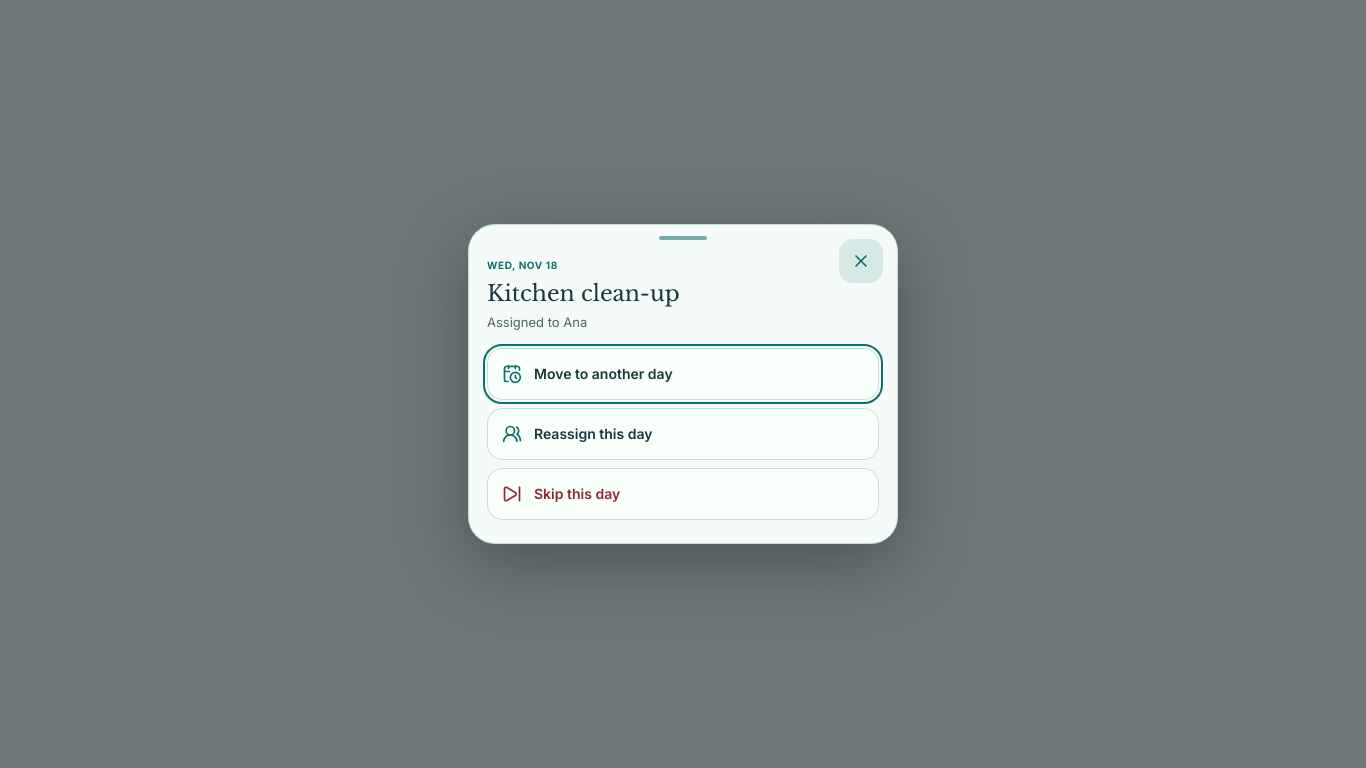
Test: OccurrenceActionSheet › treats a one-person chore's member list as a single choice
Later steps or results of the test are not shown.
Click the button "Reassign this day": (593, 434) [487,408,879,460]
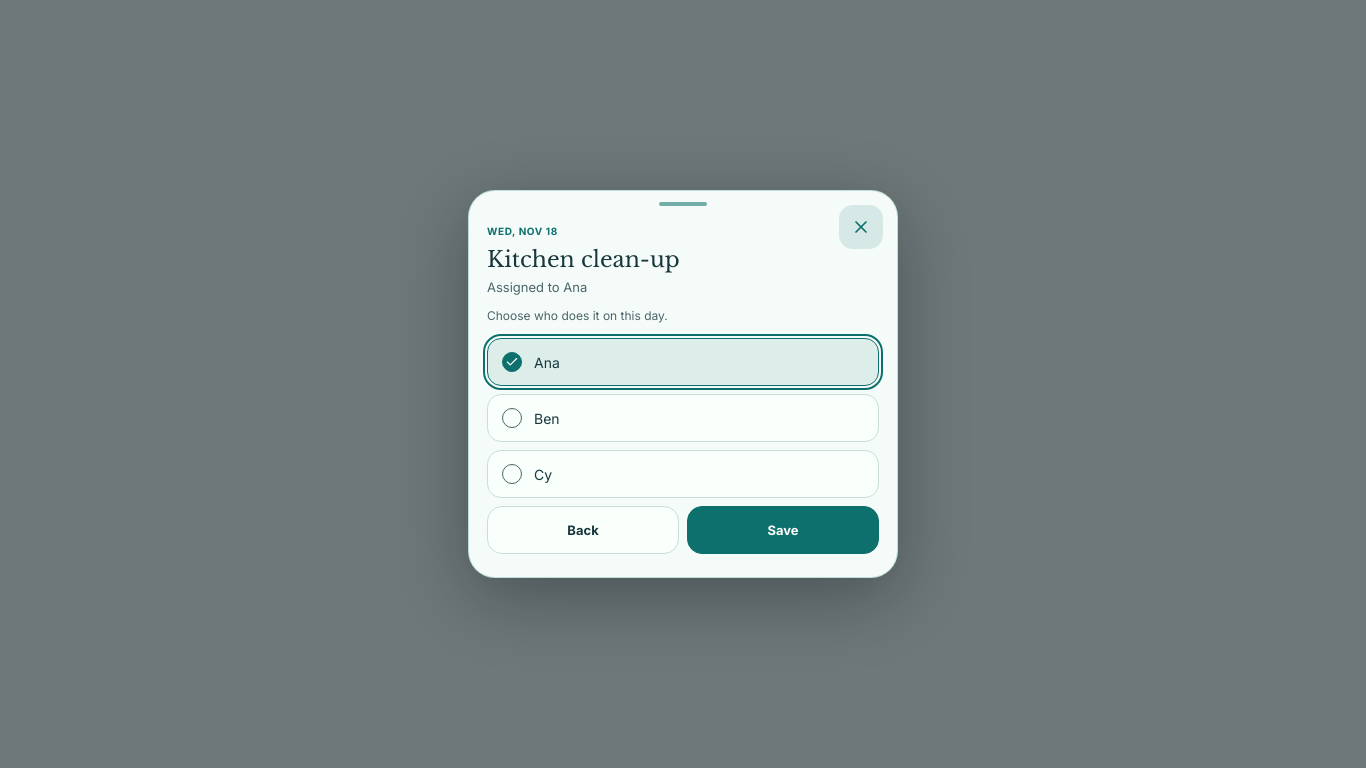
Click the radio button labelled "Ben": (512, 418) [487,394,879,442]
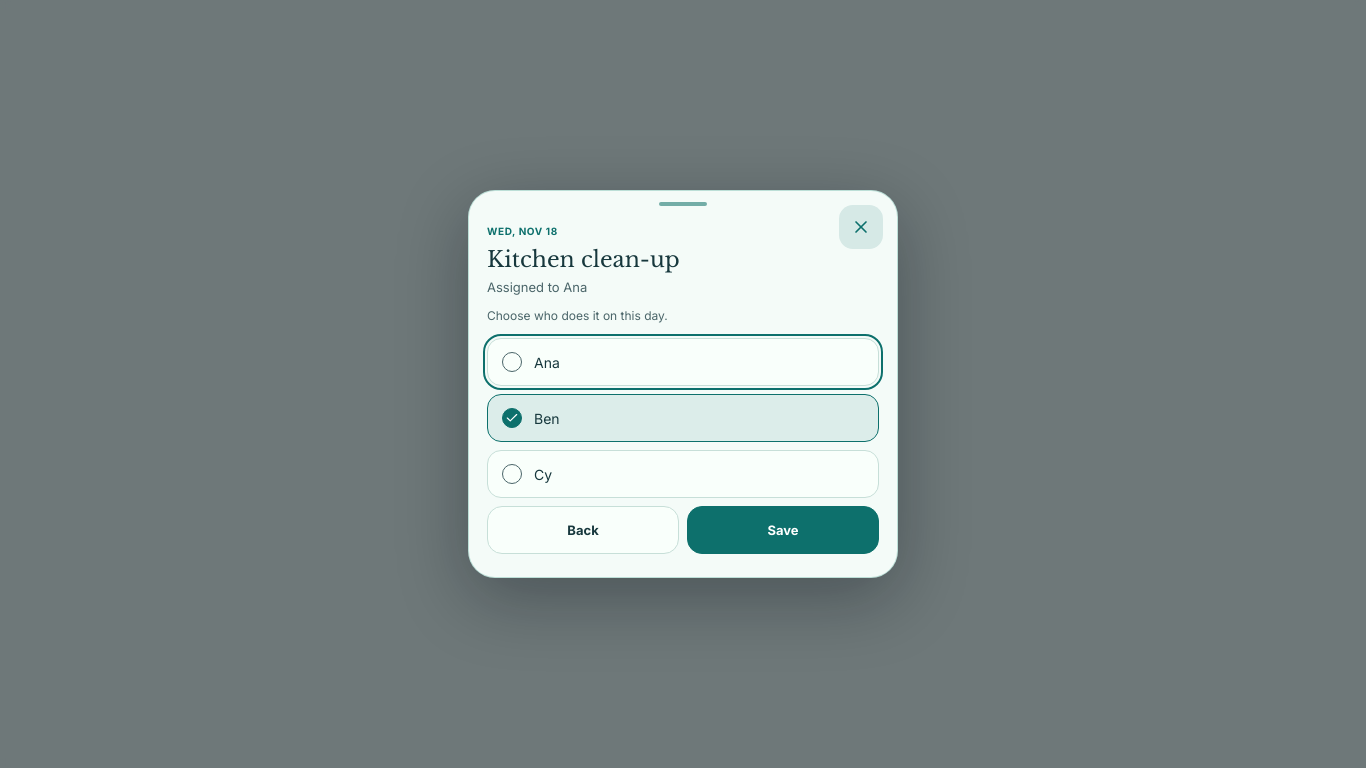
Expected: the radio button labelled "Ana" is not checked, [487,338,879,386]
